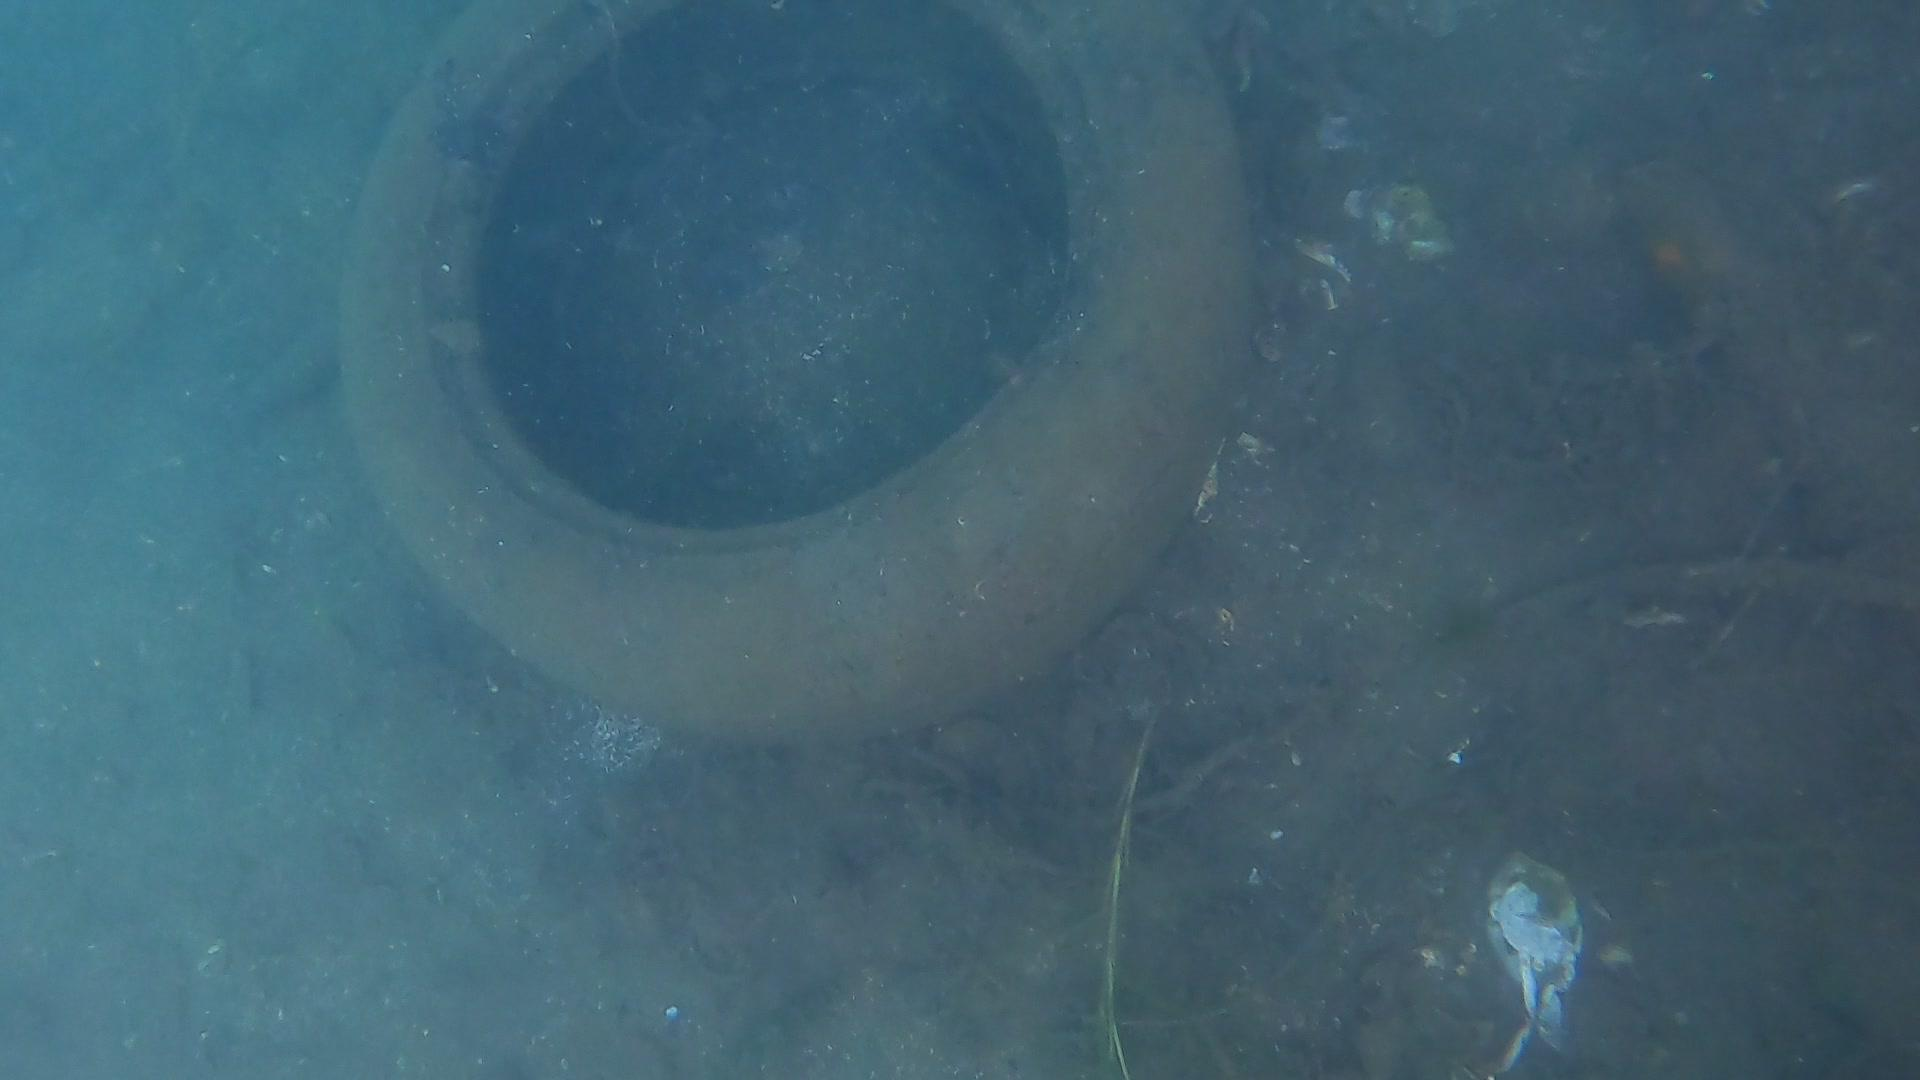tire: (342, 4, 1261, 741)
